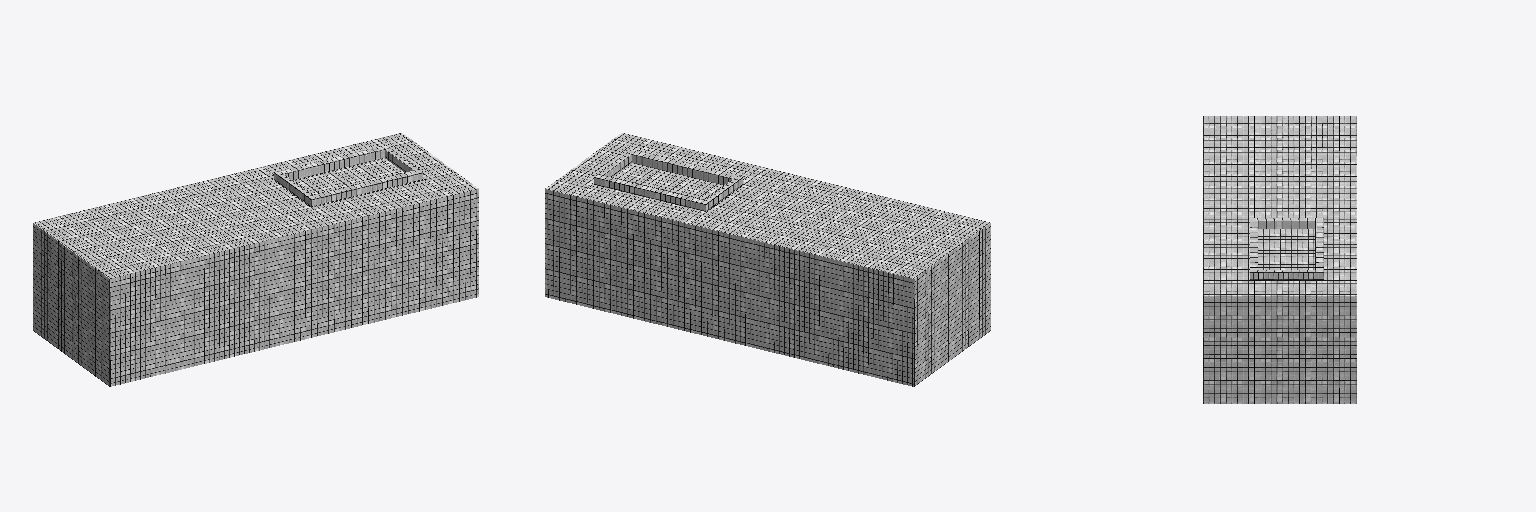
3 views of the same model, side by side, from view 1: azimuth 30°, elevation 25°; view 2: azimuth 150°, elevation 25°; view 3: azimuth 270°, elevation 25° (orthographic).
Parts seen in each view (by area): view 1: pnbmk_box.002_Cube.018; view 2: pnbmk_box.002_Cube.018; view 3: pnbmk_box.002_Cube.018.
Boxes of the visible parts, <box> form: pnbmk_box.002_Cube.018: <box>33,133,478,386</box>; pnbmk_box.002_Cube.018: <box>545,133,990,386</box>; pnbmk_box.002_Cube.018: <box>1203,116,1356,403</box>.
Bounding box in the file's own units: 2.07 × 0.619 × 0.7473.
1 materials, 1 textured.